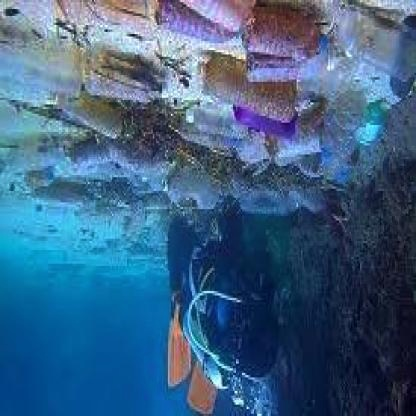pbottle: (196, 54, 300, 121), (330, 7, 413, 82), (242, 7, 330, 61), (76, 59, 172, 98), (156, 161, 219, 214), (153, 2, 233, 43), (183, 102, 254, 146), (174, 2, 250, 30), (253, 57, 310, 84)
